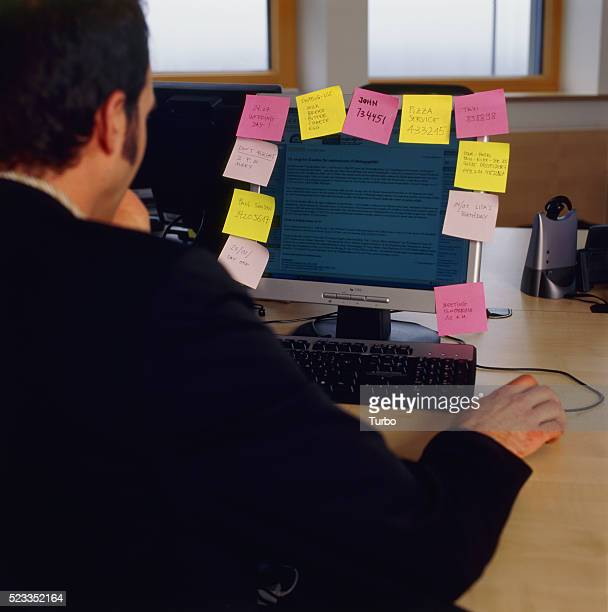Note: (213, 234, 273, 290), (450, 140, 511, 194), (343, 88, 397, 144), (433, 281, 489, 335), (442, 191, 499, 243), (221, 189, 274, 243), (453, 89, 509, 139), (297, 85, 346, 140), (400, 93, 452, 144), (235, 93, 289, 142), (221, 138, 277, 184)
